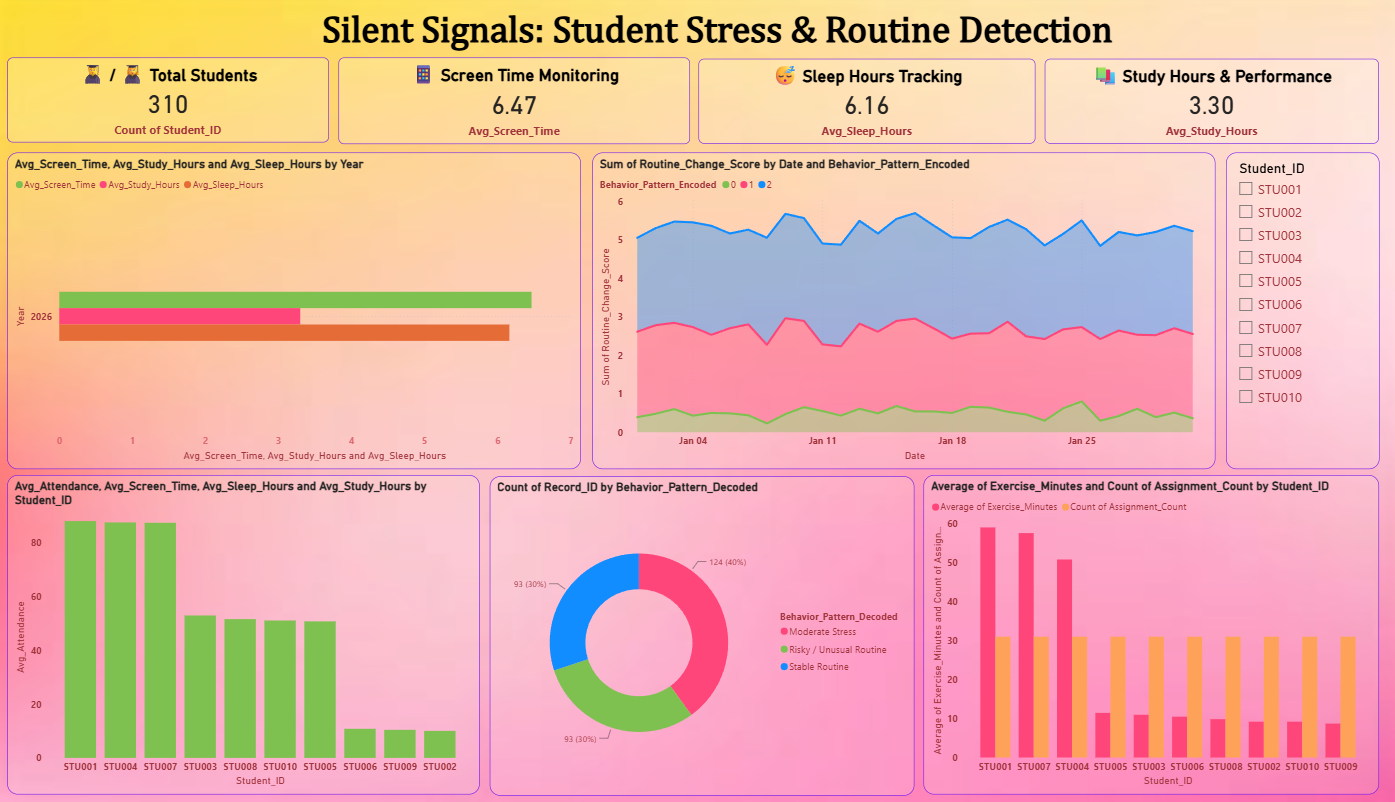

What the dashboard file says about the page in this screenshot:
{"tool":"powerbi","page":{"name":"Page 1","canvas":[2000,1150],"ordinal":0},"visuals":[{"type":"donutChart","fields":{"Category":["Silent_Signals_Cleaned_10Students.Behavior_Pattern_Decoded"],"Y":["CountNonNull(Silent_Signals_Cleaned_10Students.Record_ID)"]},"box":[702,684,604,454],"z":0},{"type":"clusteredBarChart","fields":{"Category":["Silent_Signals_Cleaned_10Students.Date.Variation.Date Hierarchy.Year","Silent_Signals_Cleaned_10Students.Date.Variation.Date Hierarchy.Quarter","Silent_Signals_Cleaned_10Students.Date.Variation.Date Hierarchy.Month","Silent_Signals_Cleaned_10Students.Date.Variation.Date Hierarchy.Day"],"Y":["Silent_Signals_Cleaned_10Students.Avg_Screen_Time","Silent_Signals_Cleaned_10Students.Avg_Study_Hours","Silent_Signals_Cleaned_10Students.Avg_Sleep_Hours"]},"box":[16,224,816,450],"z":1000},{"type":"clusteredColumnChart","fields":{"Category":["Silent_Signals_Cleaned_10Students.Student_ID"],"Y":["Avg(Silent_Signals_Cleaned_10Students.Exercise_Minutes)","CountNonNull(Silent_Signals_Cleaned_10Students.Assignment_Count)"]},"box":[1320,682,648,454],"z":2000},{"type":"clusteredColumnChart","fields":{"Category":["Silent_Signals_Cleaned_10Students.Student_ID"],"Y":["Silent_Signals_Cleaned_10Students.Avg_Attendance"]},"box":[16,682,672,454],"z":3000},{"type":"stackedAreaChart","fields":{"Y":["Sum(Silent_Signals_Cleaned_10Students.Routine_Change_Score)"],"Series":["Silent_Signals_Cleaned_10Students.Behavior_Pattern_Encoded"],"Category":["Silent_Signals_Cleaned_10Students.Date"]},"box":[848,224,886,450],"z":4000},{"type":"slicer","fields":{"Values":["Silent_Signals_Cleaned_10Students.Student_ID"]},"box":[1750,224,218,450],"z":5000},{"type":"card","title":"👨🎓 / 👩🎓 Total Students","fields":{"Values":["CountNonNull(Silent_Signals_Cleaned_10Students.Student_ID)"]},"box":[15.4,88.5,457.7,121.2],"z":7000},{"type":"card","title":"📱 Screen Time Monitoring","fields":{"Values":["Silent_Signals_Cleaned_10Students.Avg_Screen_Time"]},"box":[486.5,88.5,500,123.1],"z":8000},{"type":"card","title":"😴 Sleep Hours Tracking","fields":{"Values":["Silent_Signals_Cleaned_10Students.Avg_Sleep_Hours"]},"box":[1000,90.4,478.8,121.2],"z":9000},{"type":"card","title":"📚 Study Hours & Performance","fields":{"Values":["Silent_Signals_Cleaned_10Students.Avg_Study_Hours"]},"box":[1492.3,90.4,475,121.2],"z":10000},{"type":"textbox","box":[424,16,1206,78],"z":11000}]}

Visuals, with their boxes in screenshot pixels (x1, y1, x2, y2), scaled from the page's 2000x1150 canvas onto the 1395x802 screenshot:
donutChart - Silent_Signals_Cleaned_10Students.Behavior_Pattern_Decoded x CountNonNull(Silent_Signals_Cleaned_10Students.Record_ID): [490, 477, 911, 794]
clusteredBarChart - Silent_Signals_Cleaned_10Students.Date.Variation.Date Hierarchy.Year x Silent_Signals_Cleaned_10Students.Date.Variation.Date Hierarchy.Quarter: [11, 156, 580, 470]
clusteredColumnChart - Silent_Signals_Cleaned_10Students.Student_ID x Avg(Silent_Signals_Cleaned_10Students.Exercise_Minutes): [921, 476, 1373, 792]
clusteredColumnChart - Silent_Signals_Cleaned_10Students.Student_ID x Silent_Signals_Cleaned_10Students.Avg_Attendance: [11, 476, 480, 792]
stackedAreaChart - Sum(Silent_Signals_Cleaned_10Students.Routine_Change_Score) x Silent_Signals_Cleaned_10Students.Behavior_Pattern_Encoded: [591, 156, 1209, 470]
slicer - Silent_Signals_Cleaned_10Students.Student_ID: [1221, 156, 1373, 470]
"👨🎓 / 👩🎓 Total Students" card: [11, 62, 330, 146]
"📱 Screen Time Monitoring" card: [339, 62, 688, 148]
"😴 Sleep Hours Tracking" card: [698, 63, 1031, 148]
"📚 Study Hours & Performance" card: [1041, 63, 1372, 148]
textbox: [296, 11, 1137, 66]
